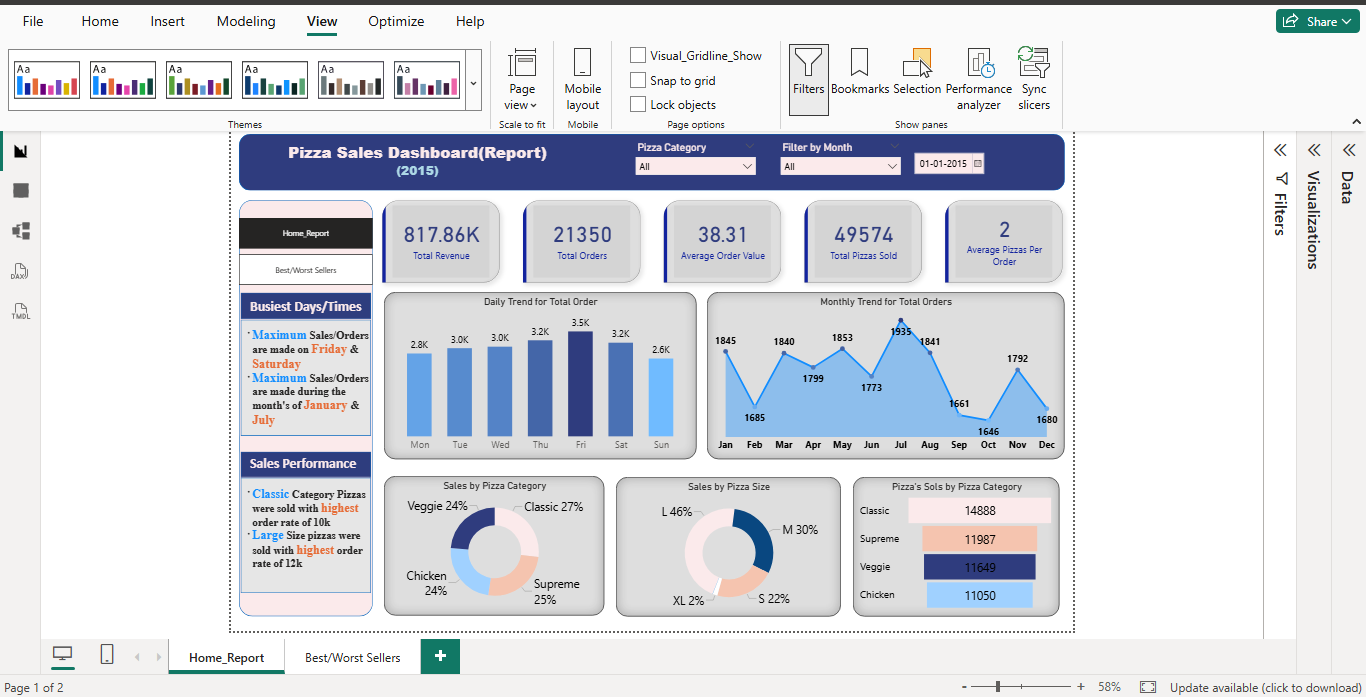

What the dashboard file says about the page in this screenshot:
{"tool":"powerbi","page":{"name":"Home_Report","canvas":[1460,867],"ordinal":0},"visuals":[{"type":"cardVisual","fields":{"Data":["pizza_sales.Total Revenue","pizza_sales.Total Orders","pizza_sales.Average Order Value","pizza_sales.Total Pizzas Sold","pizza_sales.Average Pizzas Per Order"]},"box":[245.5,103.3,1213.8,175.3],"z":0},{"type":"shape","title":"Pizza Sales Analysis/Dashboard  (2015)","box":[14,6,1432,98],"z":1000},{"type":"textbox","box":[0,11.7,646.8,91.6],"z":2000},{"type":"columnChart","title":"Daily Trend for Total Order","fields":{"Category":["pizza_sales.Order Day"],"Y":["pizza_sales.Total Orders"]},"box":[265,278.6,541.6,290.3],"z":3000},{"type":"areaChart","title":"Monthly Trend for Total Orders","fields":{"Category":["pizza_sales.Order Month"],"Y":["pizza_sales.Total Orders"]},"box":[826.1,278.6,619.6,290.3],"z":4000},{"type":"donutChart","title":"Sales by Pizza Category","fields":{"Category":["pizza_sales.pizza_category"],"Y":["pizza_sales.Total Revenue"]},"box":[265,598.1,381.9,241.6],"z":5000},{"type":"funnel","title":"Pizza''s Sols by Pizza Category","fields":{"Category":["pizza_sales.pizza_category"],"Y":["pizza_sales.Total Pizzas Sold"]},"box":[1079.4,600.1,358.5,241.6],"z":6000},{"type":"donutChart","title":"Sales by Pizza Size","fields":{"Y":["pizza_sales.Total Revenue"],"Category":["pizza_sales.pizza_size"]},"box":[668,600,390,242],"z":7000},{"type":"shape","box":[14,278,232,52],"z":9000},{"type":"shape","box":[14,552.7,232,52],"z":10000},{"type":"shape","box":[14.2,324.2,231.7,207.5],"z":11000},{"type":"shape","box":[14.2,598.3,231.7,205.8],"z":12000},{"type":"slicer","fields":{"Values":["pizza_sales.pizza_category"]},"box":[691.7,11.7,228,76],"z":13000},{"type":"slicer","fields":{"Values":["pizza_sales.order_date"]},"box":[1172.9,27.3,265,52.6],"z":14000},{"type":"slicer","fields":{"Values":["pizza_sales.Order Month"]},"box":[943,11.7,228,76],"z":15000},{"type":"textbox","box":[28,557,263,41],"z":16000},{"type":"textbox","box":[28,284,263,40],"z":17000},{"type":"textbox","box":[14,336,232,196],"z":18000},{"type":"textbox","box":[14,612,232,178],"z":19000},{"type":"pageNavigator","box":[13.8,151.2,232.5,117.5],"z":21000}]}

Visuals, with their boxes on the page's 1460x867 design canvas (x1, y1, x2, y2). These are canvas units, not pixel positions in the 1366x697 screenshot, which may show the page scaled, cropped or inside an application window:
cardVisual - pizza_sales.Total Revenue x pizza_sales.Total Orders: 246,103,1459,279
"Pizza Sales Analysis/Dashboard  (2015)" shape: 14,6,1446,104
textbox: 0,12,647,103
"Daily Trend for Total Order" columnChart: 265,279,807,569
"Monthly Trend for Total Orders" areaChart: 826,279,1446,569
"Sales by Pizza Category" donutChart: 265,598,647,840
"Pizza''s Sols by Pizza Category" funnel: 1079,600,1438,842
"Sales by Pizza Size" donutChart: 668,600,1058,842
shape: 14,278,246,330
shape: 14,553,246,605
shape: 14,324,246,532
shape: 14,598,246,804
slicer - pizza_sales.pizza_category: 692,12,920,88
slicer - pizza_sales.order_date: 1173,27,1438,80
slicer - pizza_sales.Order Month: 943,12,1171,88
textbox: 28,557,291,598
textbox: 28,284,291,324
textbox: 14,336,246,532
textbox: 14,612,246,790
pageNavigator: 14,151,246,269
